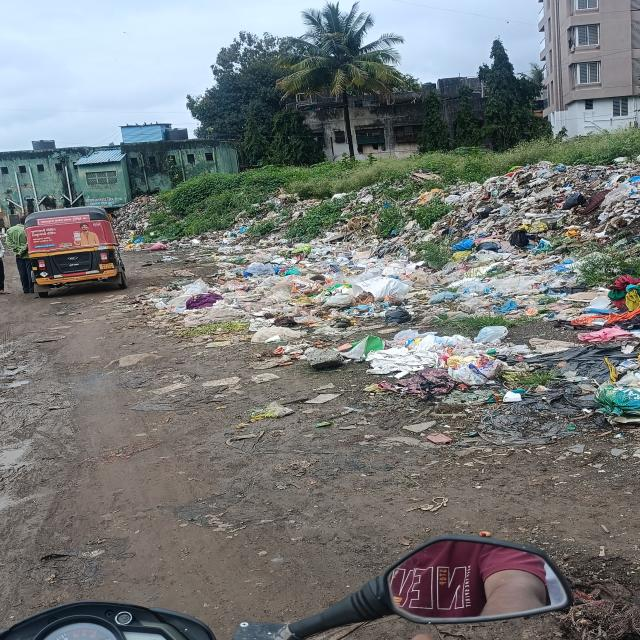garbage: (402, 164, 640, 440), (157, 195, 402, 405), (114, 197, 159, 252)
